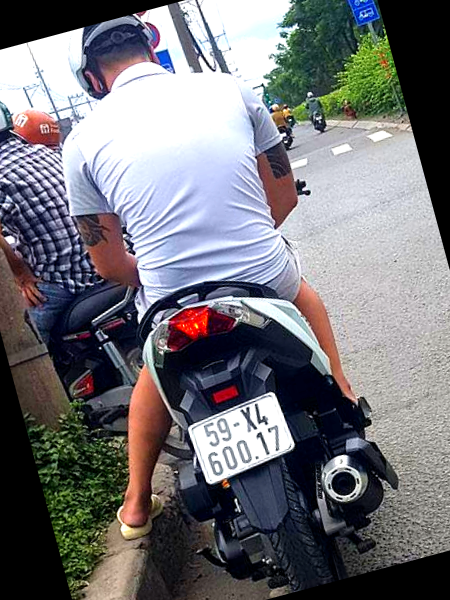number: (188, 392, 292, 485)
